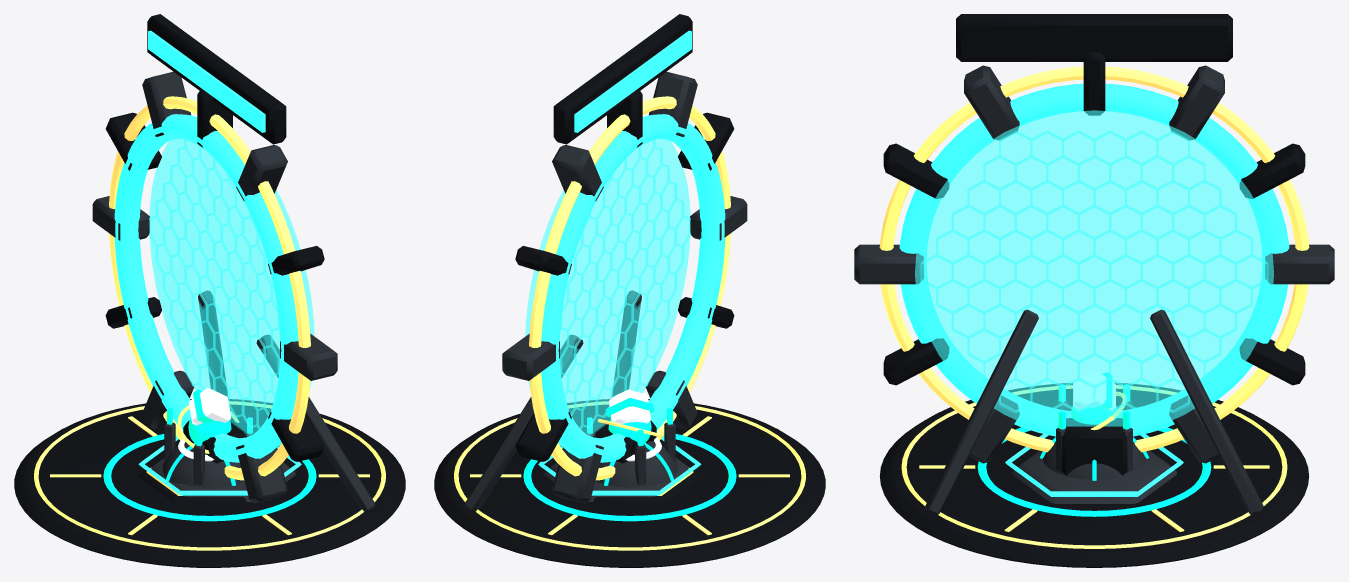
The model's file is shaddai_hover_league_v01.glb.
3 renders of one model, left to right at view 1: azimuth 30°, elevation 25°; view 2: azimuth 150°, elevation 25°; view 3: azimuth 270°, elevation 25°, orthographic. The views are drawn at different scales.
Parts seen in each view (by area): view 1: hl_goal_hoop, hl_dais, hl_ball, hl_powerup_cube, hl_powerup, hl_boost_big, hl_boost_big_orb; view 2: hl_goal_hoop, hl_dais, hl_ball, hl_powerup_cube, hl_powerup, hl_boost_big, hl_boost_big_orb; view 3: hl_goal_hoop, hl_dais, hl_powerup_cube, hl_ball, hl_powerup, hl_boost_big_orb.
Boxes of the visible parts, x1,y1,x2,y2 form: hl_goal_hoop: [92, 14, 375, 511]; hl_dais: [14, 399, 405, 567]; hl_ball: [162, 438, 244, 487]; hl_powerup_cube: [189, 388, 230, 425]; hl_powerup: [164, 408, 254, 485]; hl_boost_big: [139, 457, 246, 502]; hl_boost_big_orb: [177, 405, 239, 453]; hl_goal_hoop: [464, 14, 747, 511]; hl_dais: [434, 399, 825, 567]; hl_ball: [595, 437, 677, 487]; hl_powerup_cube: [605, 389, 654, 423]; hl_powerup: [585, 408, 675, 485]; hl_boost_big: [593, 457, 700, 502]; hl_boost_big_orb: [598, 418, 662, 443]; hl_goal_hoop: [854, 14, 1334, 515]; hl_dais: [879, 383, 1309, 567]; hl_powerup_cube: [1073, 371, 1115, 410]; hl_ball: [1039, 437, 1149, 480]; hl_powerup: [1056, 384, 1132, 472]; hl_boost_big_orb: [1071, 392, 1125, 430].
Bounding box in the file's own units: 9.92 × 13.22 × 11.1.
